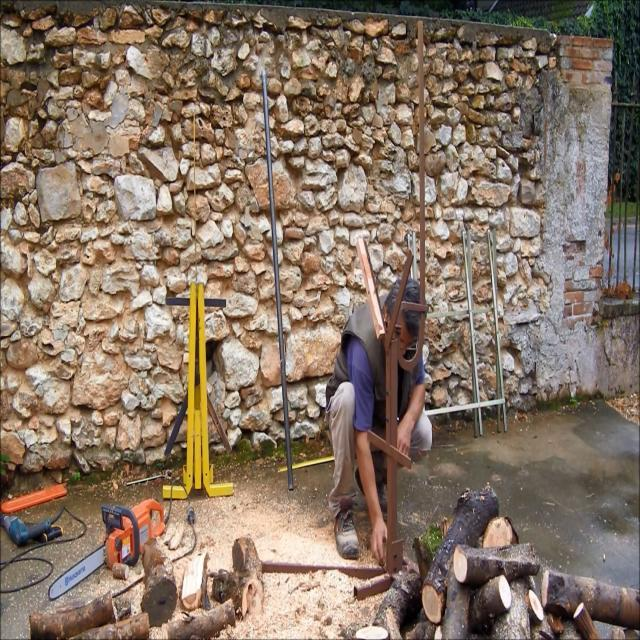Chainsaw: (33, 459, 185, 622)
